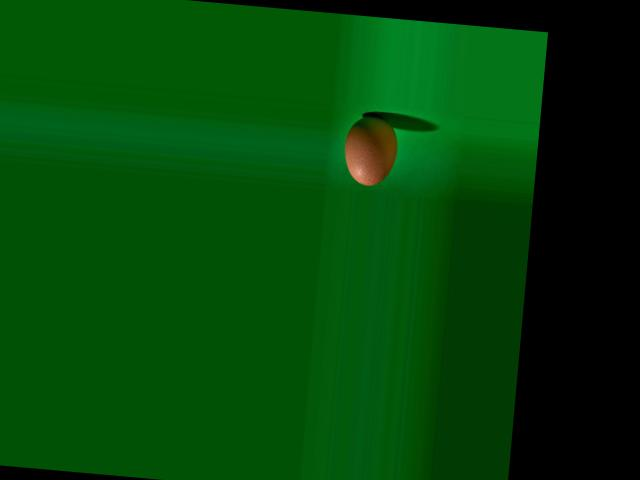egg: (341, 113, 400, 187)
